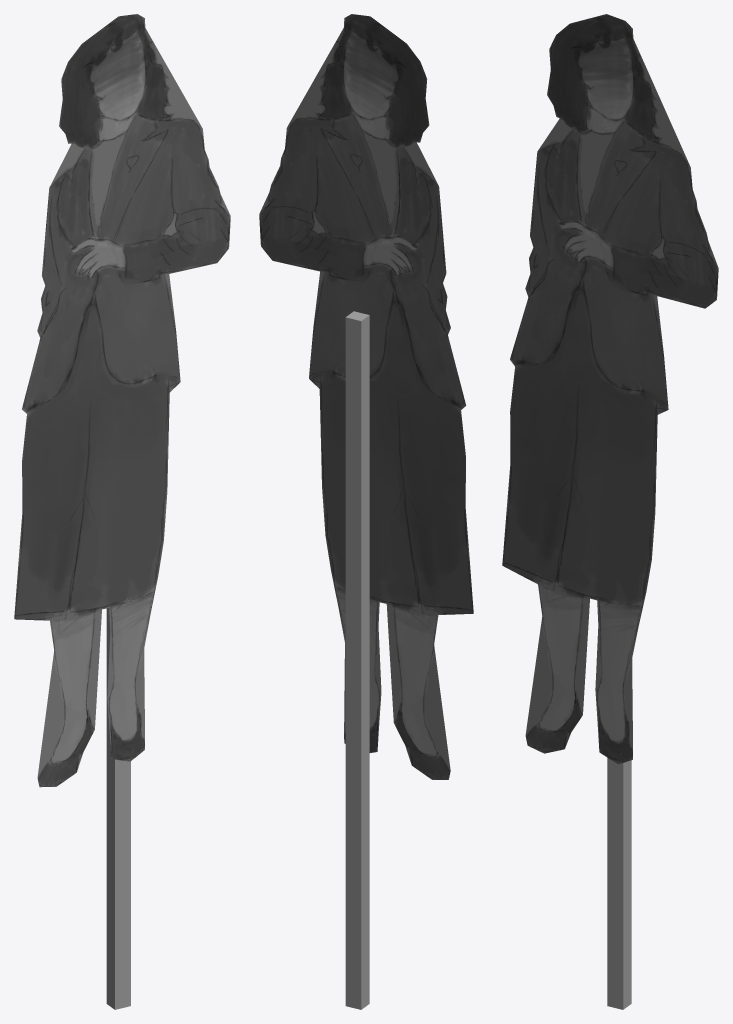
File: Depression_Woman2.fbx
The picture shows the model from 3 angles, left to right: view 1: azimuth 30°, elevation 25°; view 2: azimuth 150°, elevation 25°; view 3: azimuth 330°, elevation 25°; orthographic projection.
Visible parts, largest first — view 1: pCube3; view 2: pCube3; view 3: pCube3.
Part boxes in pixels (left/top/right/bottom): pCube3: left=14, top=14, right=230, bottom=1009; pCube3: left=259, top=14, right=473, bottom=1009; pCube3: left=502, top=14, right=718, bottom=1009.
Bounding box in the file's own units: 0.0158 × 0.0692 × 0.00133.
2 materials, 1 textured.
